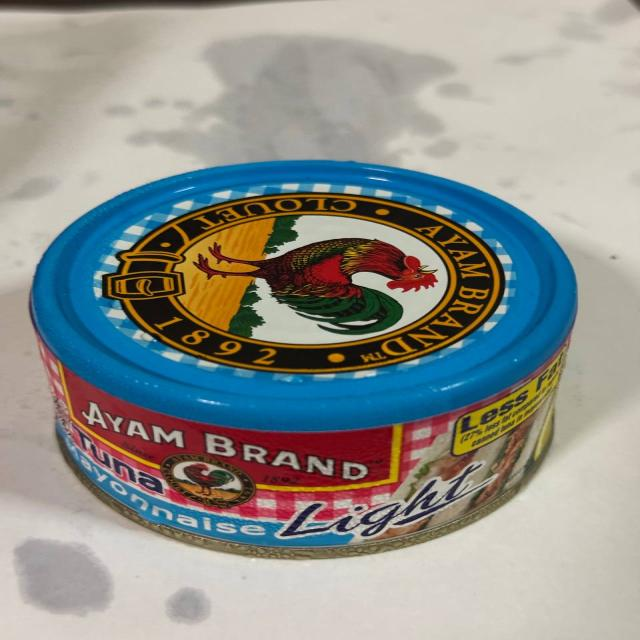tuna-can: (20, 150, 596, 567)
